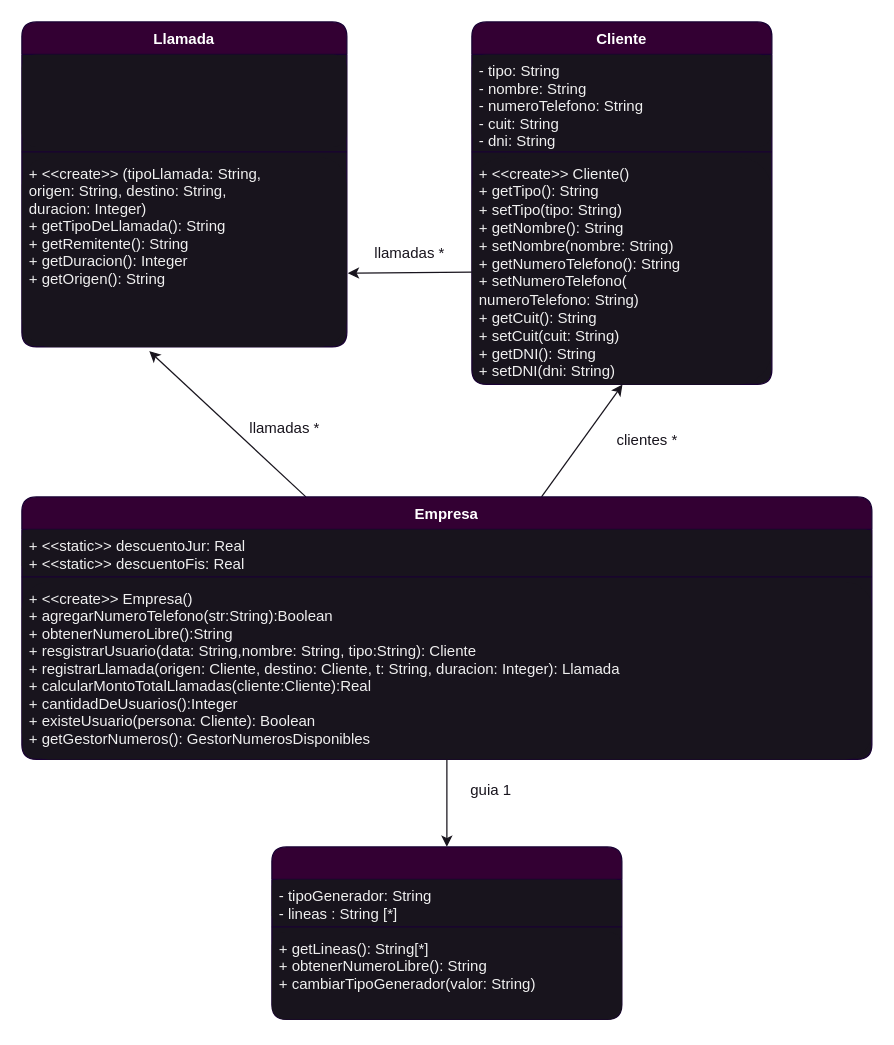
This 894x1045 diagram has some shape labels left out. Each missing label, with the box of its shape:
- tipoDeLlamada: String - origen: String - destino: String - duracion: Integer: (21, 54, 346, 146)
GestorNumerosDisponibles: (271, 846, 622, 1019)
